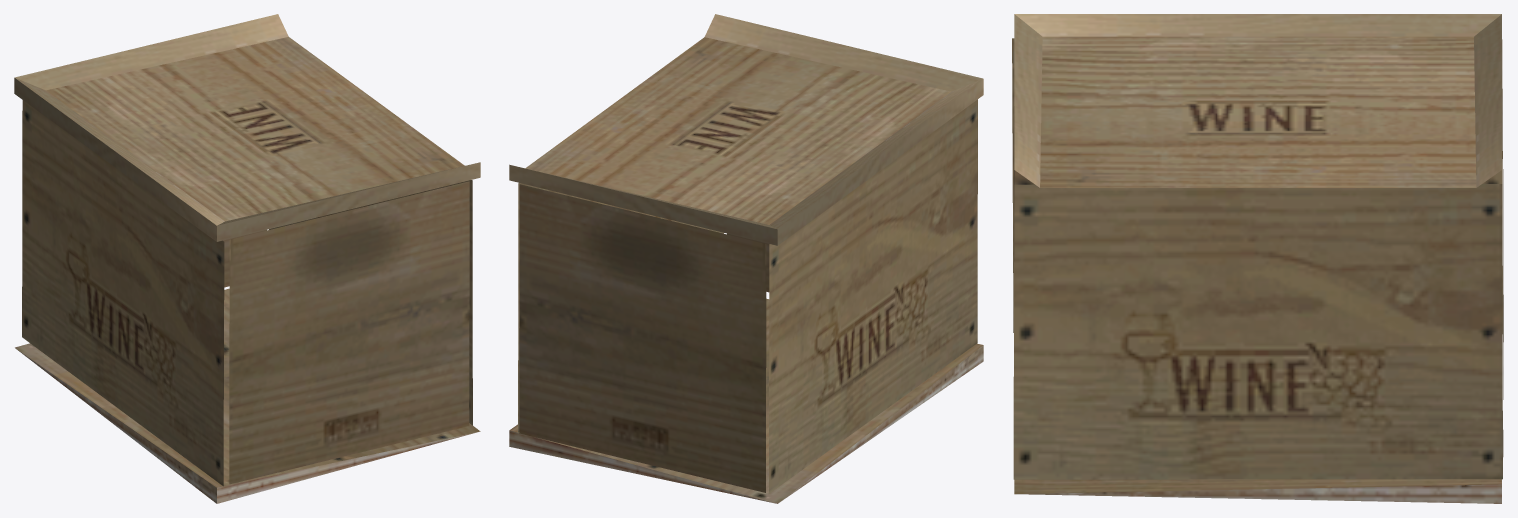
Rendered from com_wine_crate_close_lod3.glb.
3 renders of one model, left to right at view 1: azimuth 30°, elevation 25°; view 2: azimuth 150°, elevation 25°; view 3: azimuth 270°, elevation 25°, orthographic. The views are drawn at different scales.
Visible parts, largest first — view 1: surf0; view 2: surf0; view 3: surf0.
Boxes of the visible parts, x1,y1,x2,y2 form: surf0: (14, 14, 480, 503); surf0: (509, 14, 983, 503); surf0: (1012, 14, 1503, 503).
Size of the model in its own units: 17.92 by 18.06 by 24.03.
